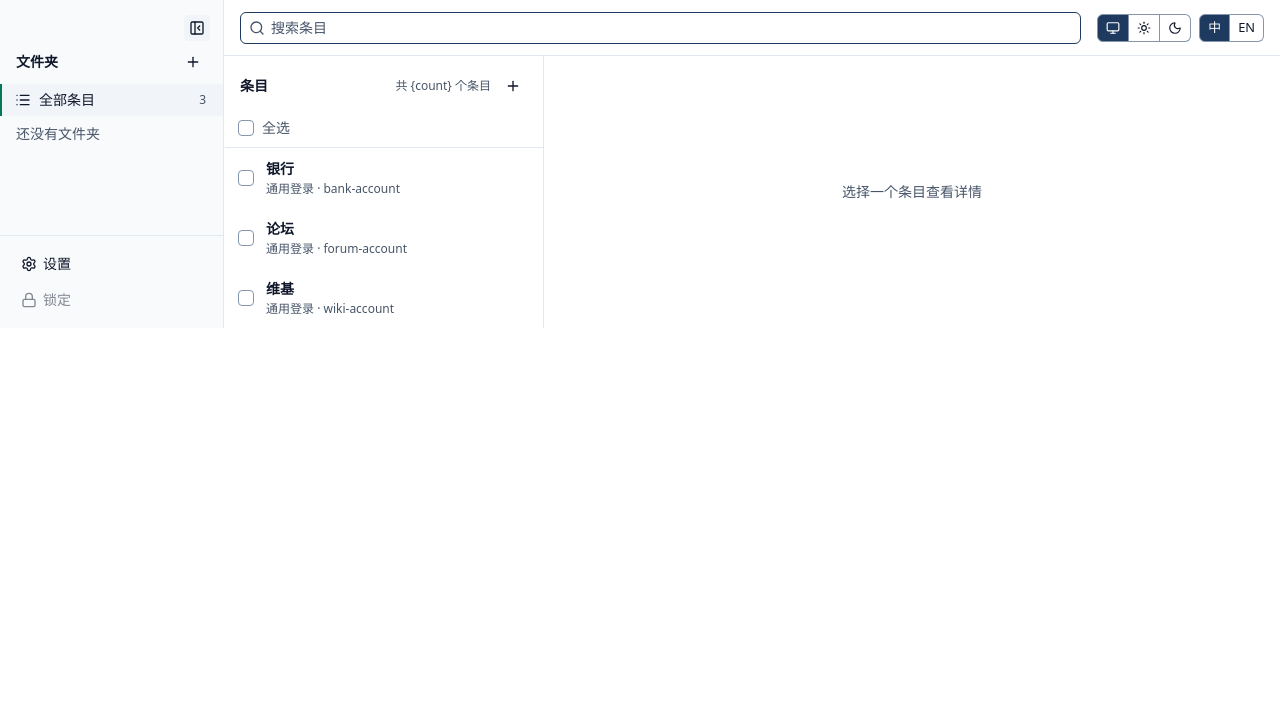
Test: 设置里的标签分区 › 没有标签时显示空状态说明
The image size is (1280, 720).
What coordinates should you click on to do the following:
click the button "设置"
I would click on:
 (112, 264)
Its box is [12,248,211,280].
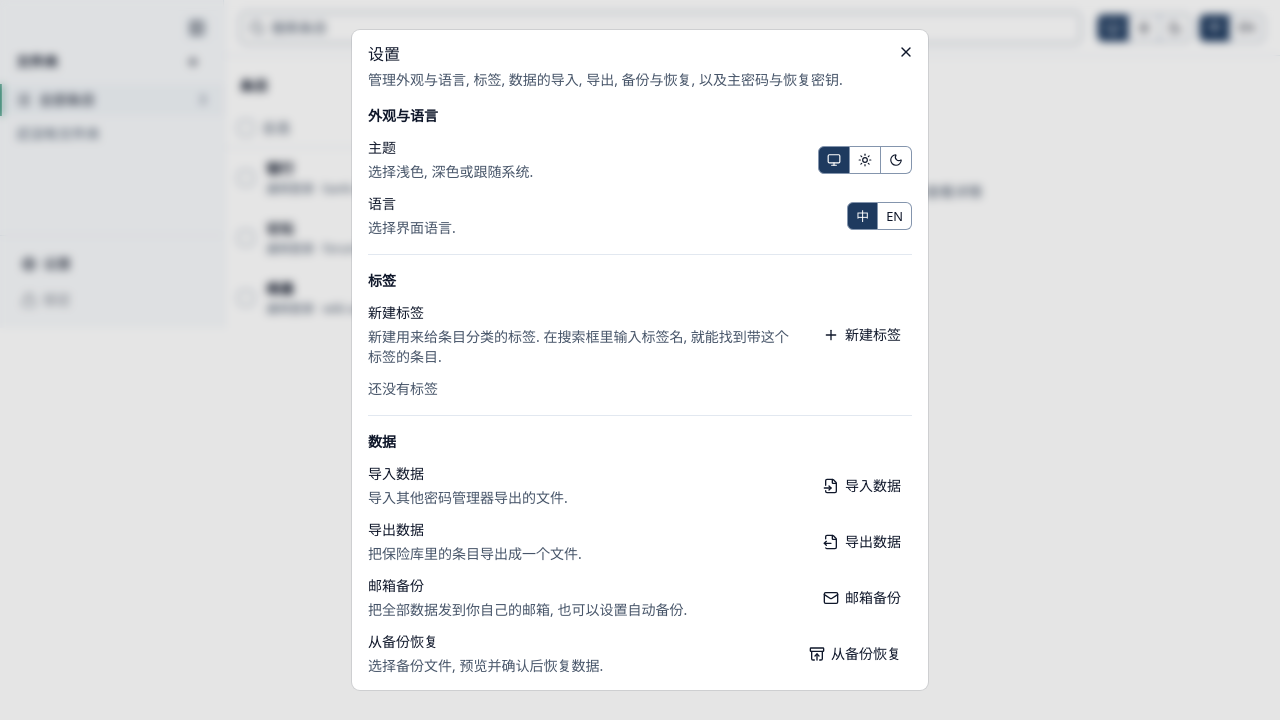
Now the text "还没有标签" is shown, box [368,379,438,398]
